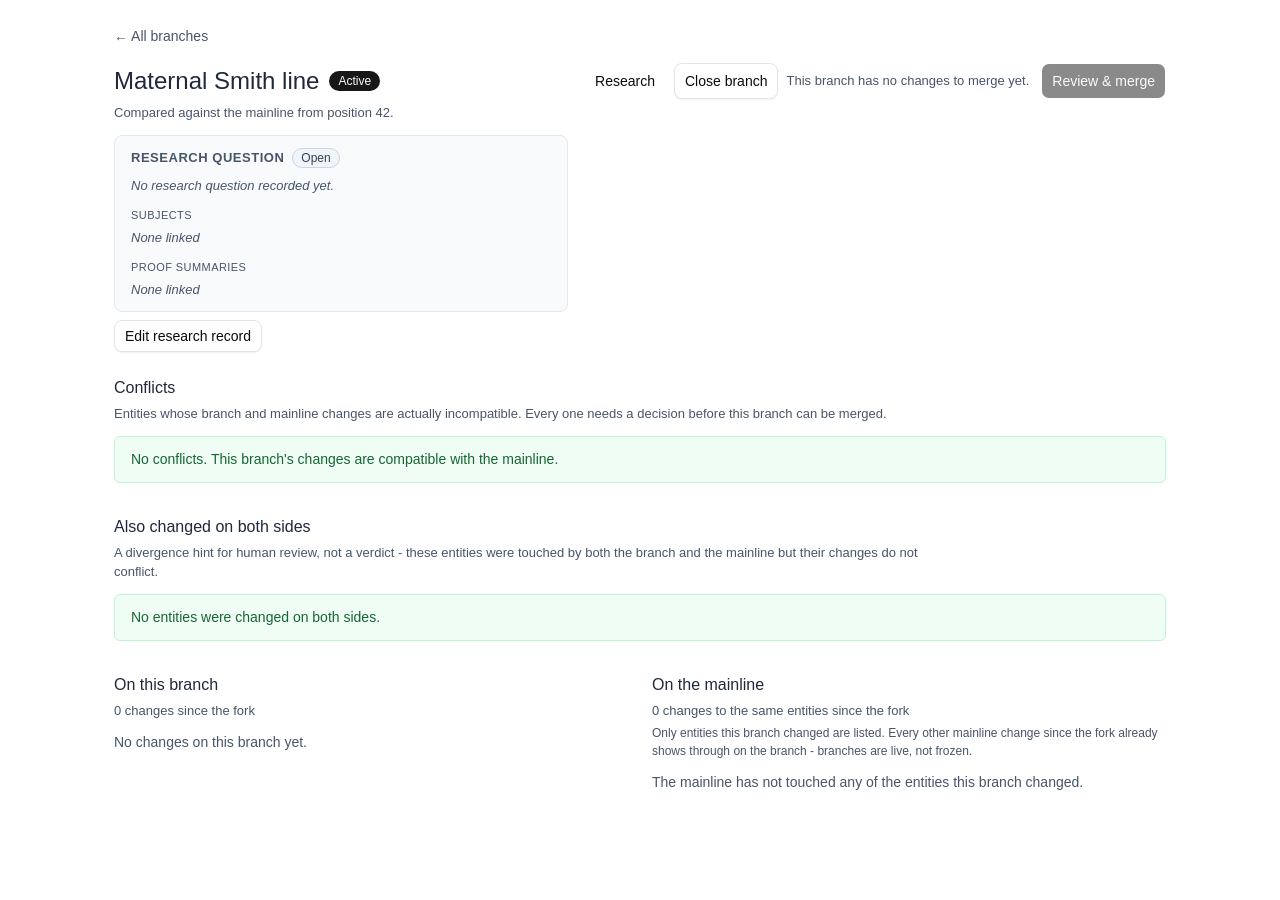
Scenario: Branch page close › closes the active branch, copies its logs and returns to the mainline
Click the button "Close branch" at (726, 81), box [674,63,778,99]
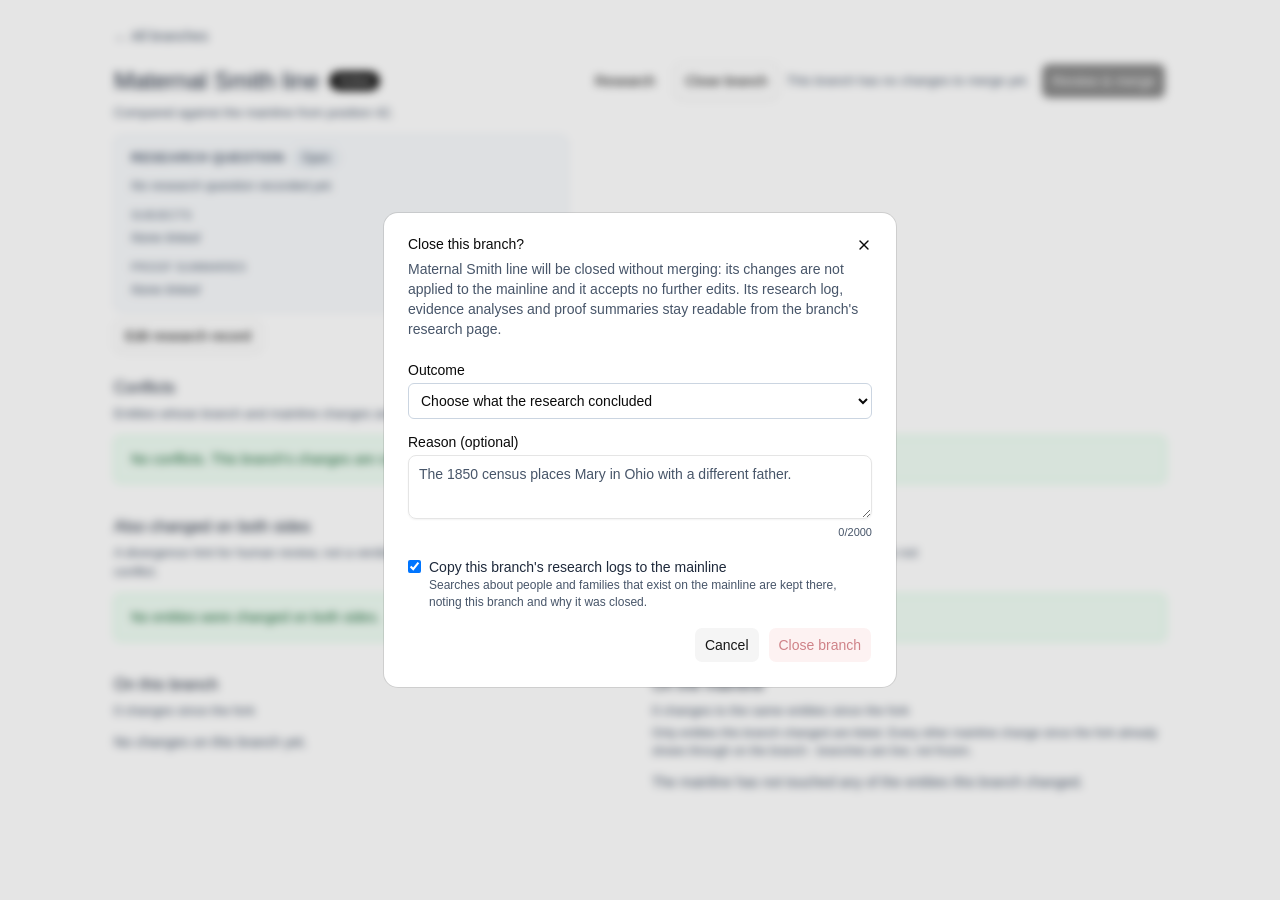
Select "Disproved" in the dropdown labelled "Outcome" at (640, 401), box [408,383,872,419]
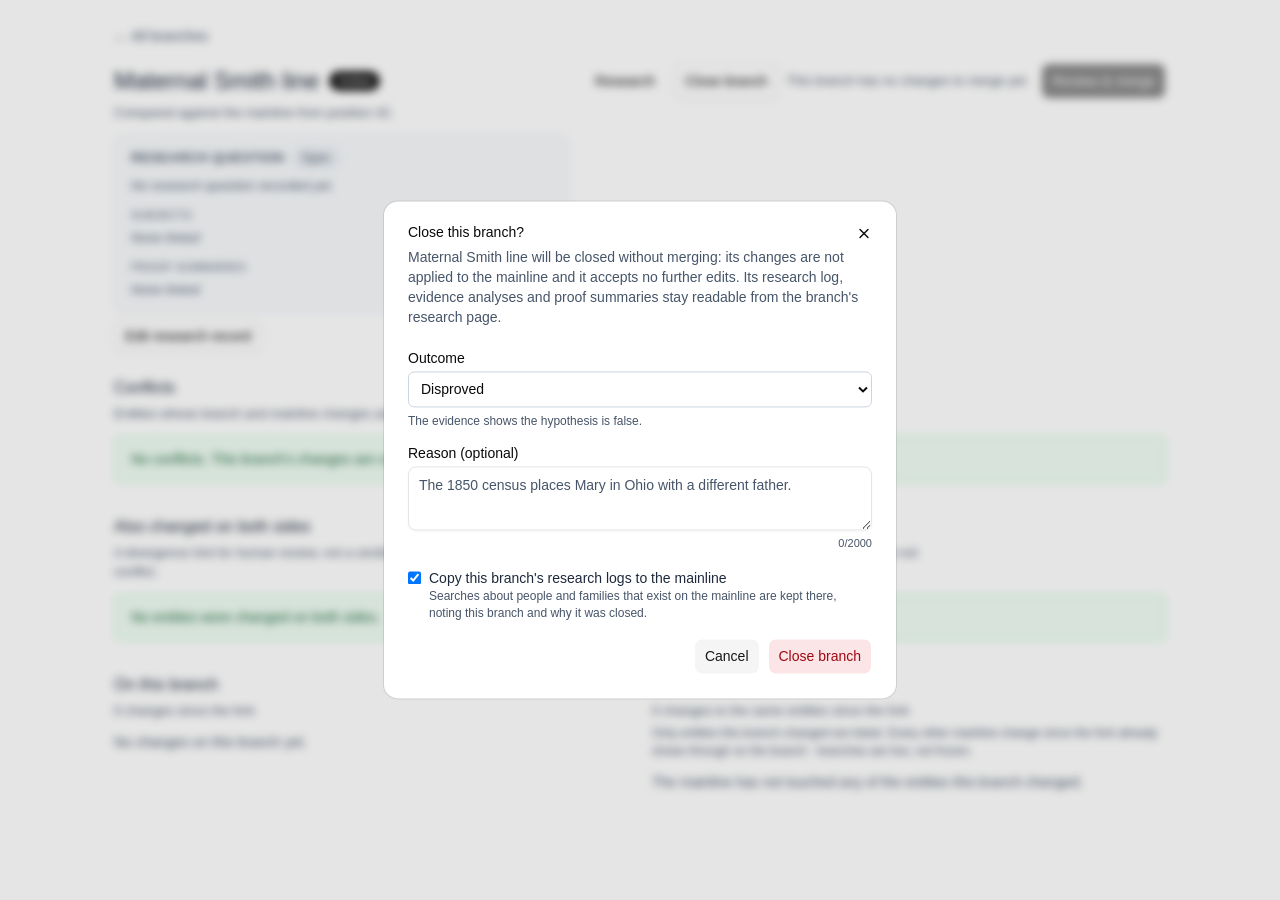
Type "Other parents named" into the text box labelled "Reason (optional)" at (640, 499), box [408,467,872,531]
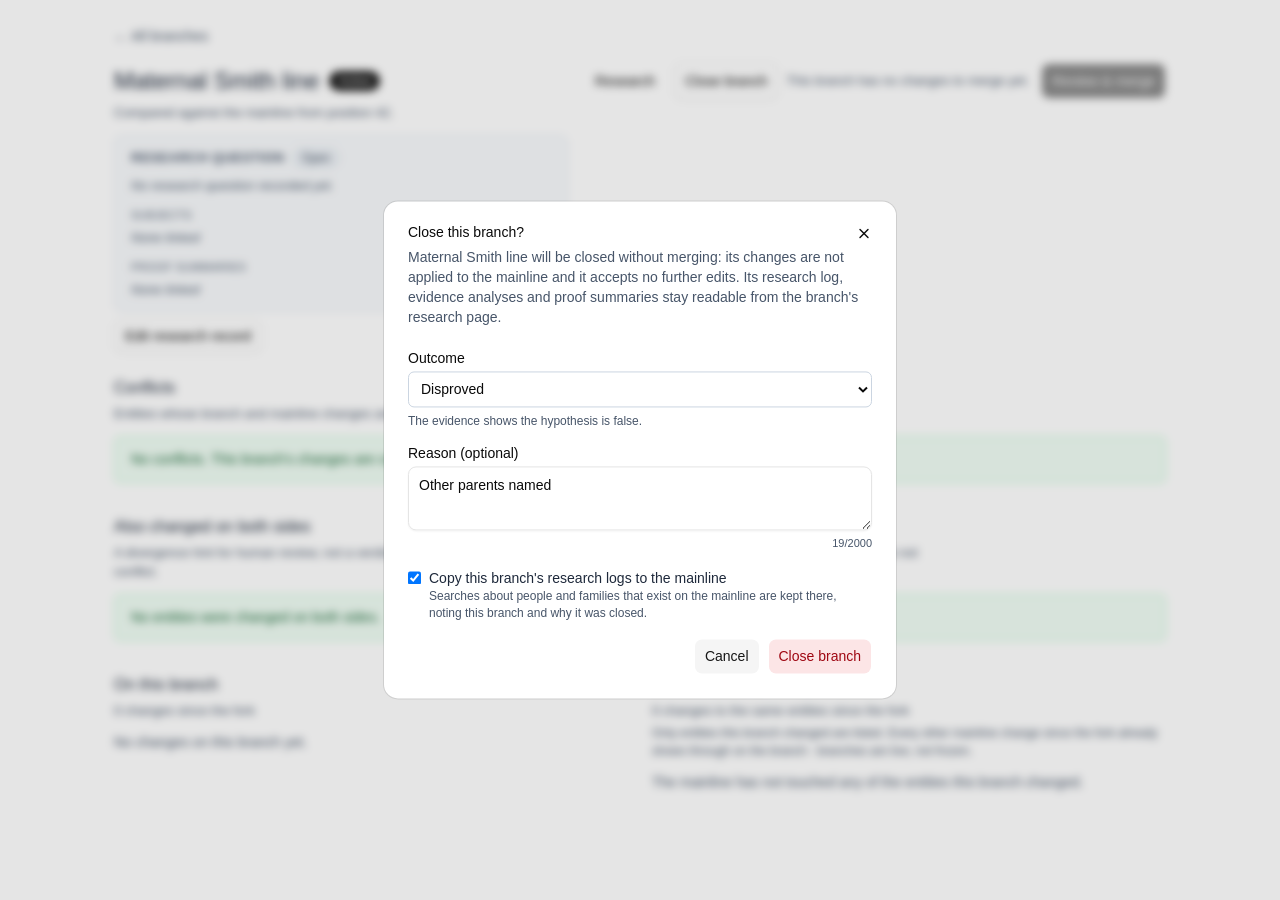
Click the button "Close branch" at (820, 657), box [768,639,872,675]
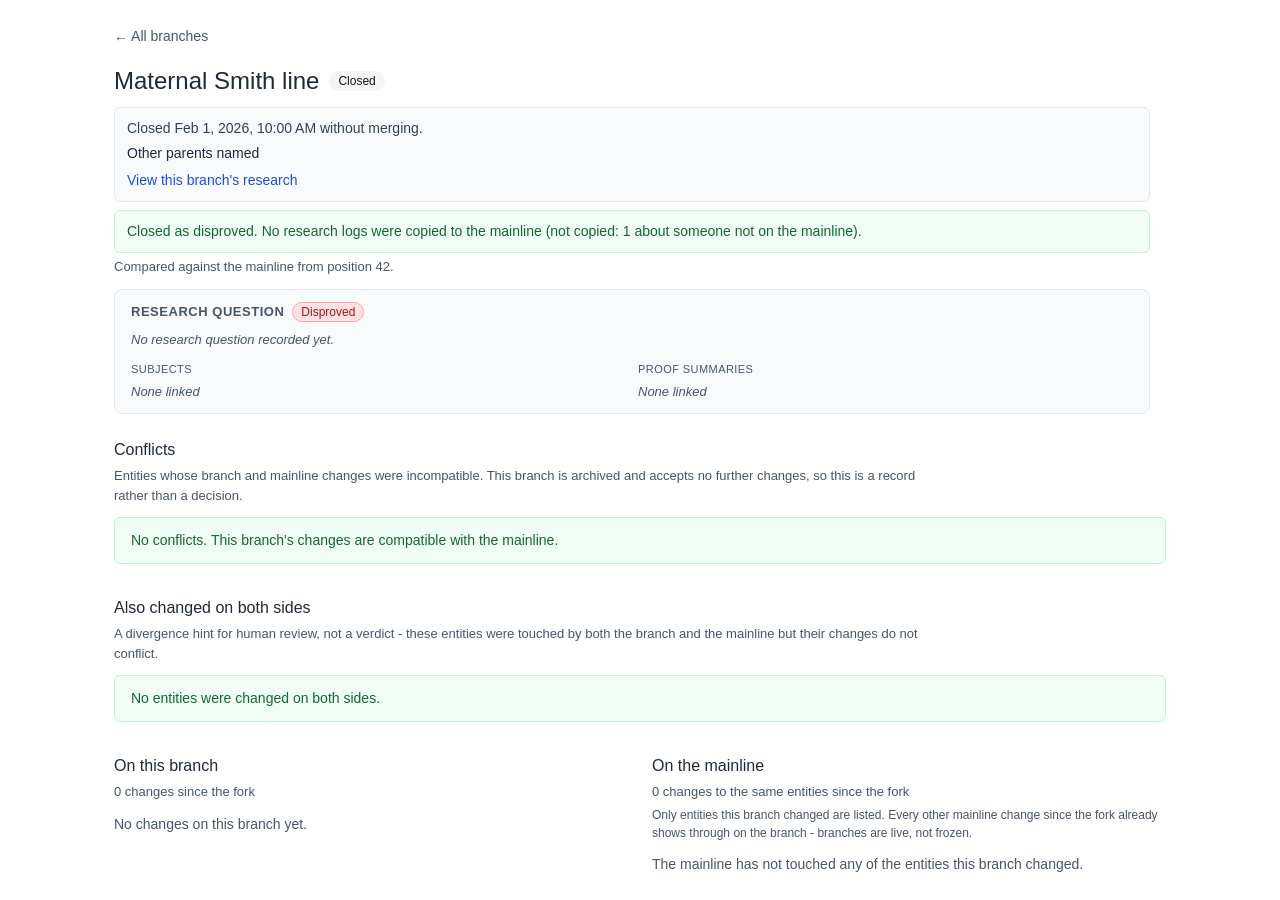
expect the element with test id "closed-record" is shown: met, box [114,107,1150,202]
expect the text "Closed as disproved. No research logs were copied" is shown: met, box [127,223,862,239]
expect the button "Review & merge" is gone: met
